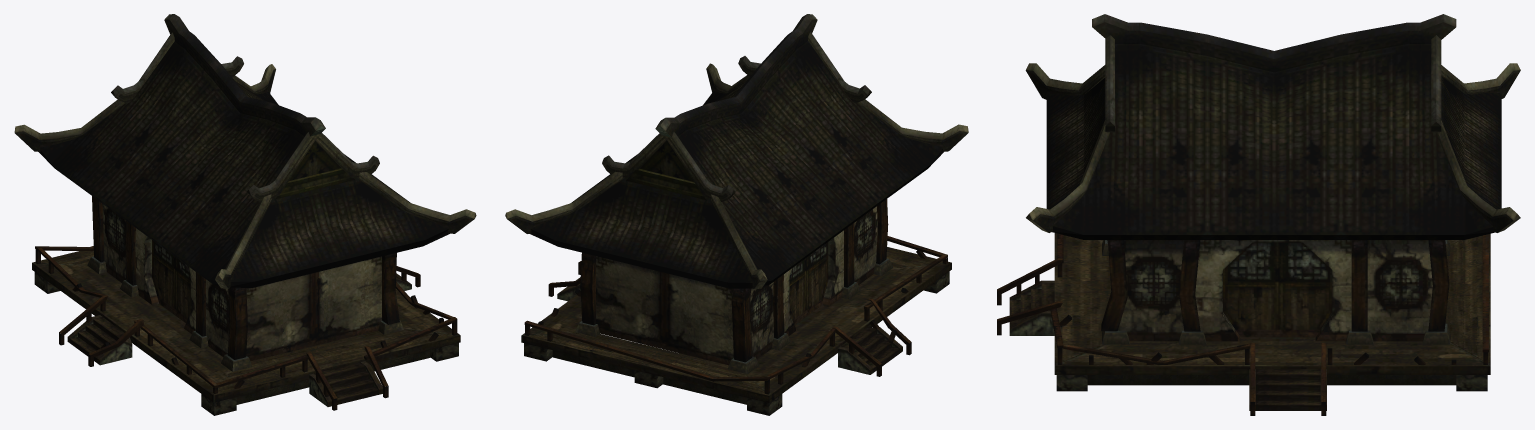
The model's file is c1-008-house5-2_02.glb.
3 views of the same model, side by side, from view 1: azimuth 30°, elevation 25°; view 2: azimuth 150°, elevation 25°; view 3: azimuth 270°, elevation 25° (orthographic). The views are drawn at different scales.
Parts seen in each view (by area): view 1: c1-008-house5-1; view 2: c1-008-house5-1; view 3: c1-008-house5-1.
Part boxes in pixels (x1,y1,x2,y2): c1-008-house5-1: (14, 14, 476, 415); c1-008-house5-1: (505, 14, 968, 415); c1-008-house5-1: (997, 14, 1520, 415).
Bounding box in the file's own units: 14.69 × 10.83 × 16.81.
3 materials, 3 textured.
